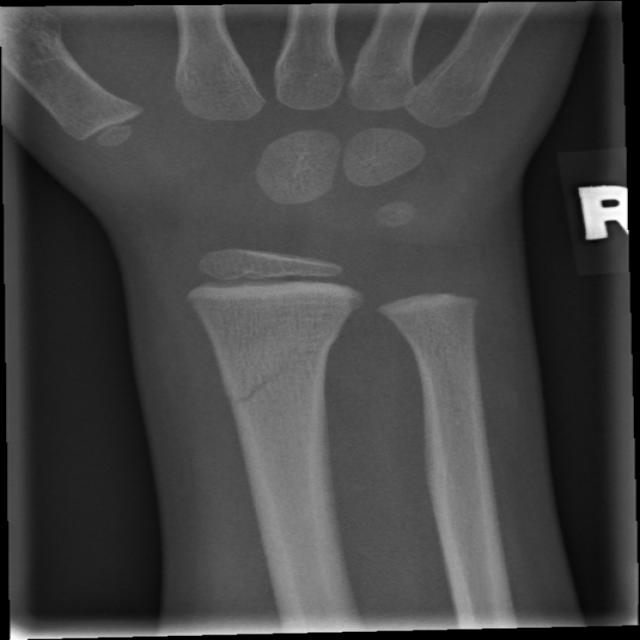radius fracture: (204, 328, 348, 466)
